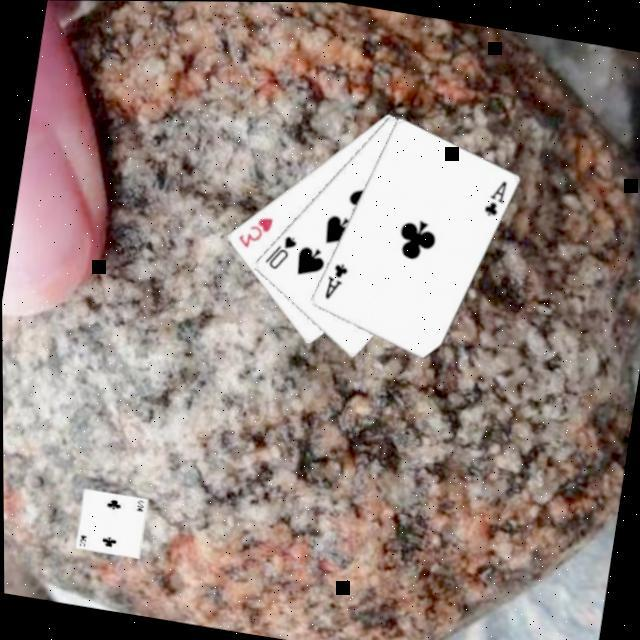10S: (258, 228, 298, 276)
3H: (230, 210, 274, 254)
AC: (317, 259, 348, 305), (477, 176, 508, 222)
